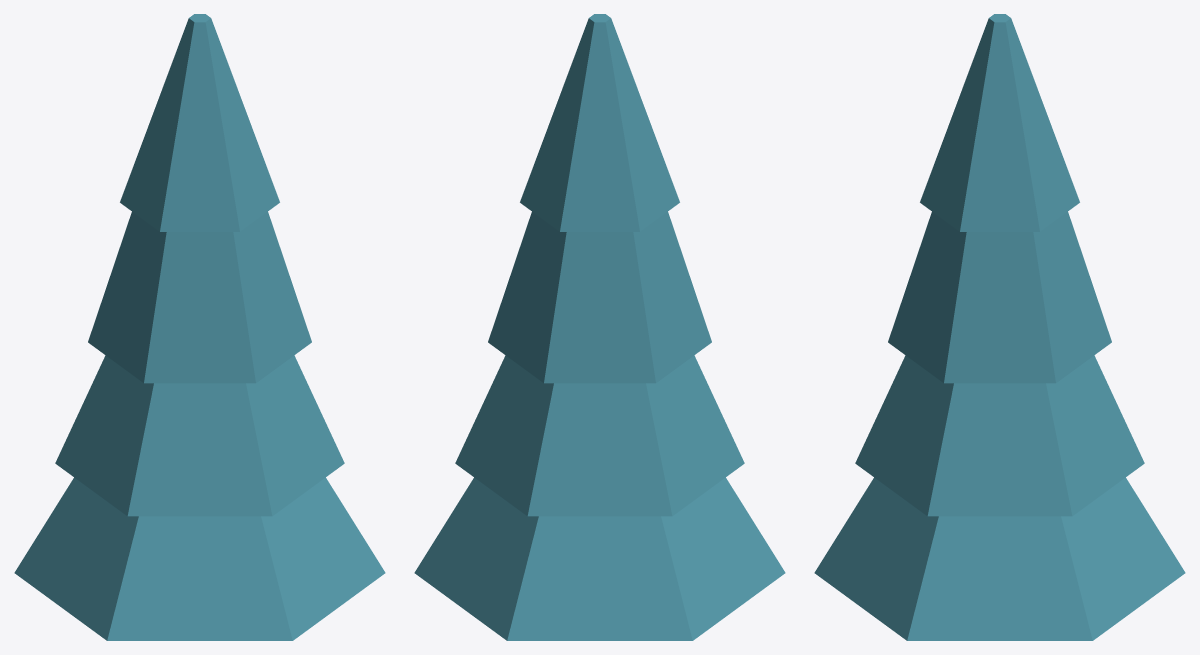
Rendered from tree_pineSmall_round2.fbx.
3 views of the same model, side by side, from view 1: azimuth 30°, elevation 25°; view 2: azimuth 150°, elevation 25°; view 3: azimuth 270°, elevation 25° (orthographic).
Visible parts, largest first — view 1: tree_pineSmall_round2; view 2: tree_pineSmall_round2; view 3: tree_pineSmall_round2.
Part boxes in pixels (<box>): tree_pineSmall_round2: <box>14,14,385,640</box>; tree_pineSmall_round2: <box>414,14,785,640</box>; tree_pineSmall_round2: <box>814,14,1185,640</box>.
Size of the model in its own units: 4.8 by 9.14 by 5.55.
